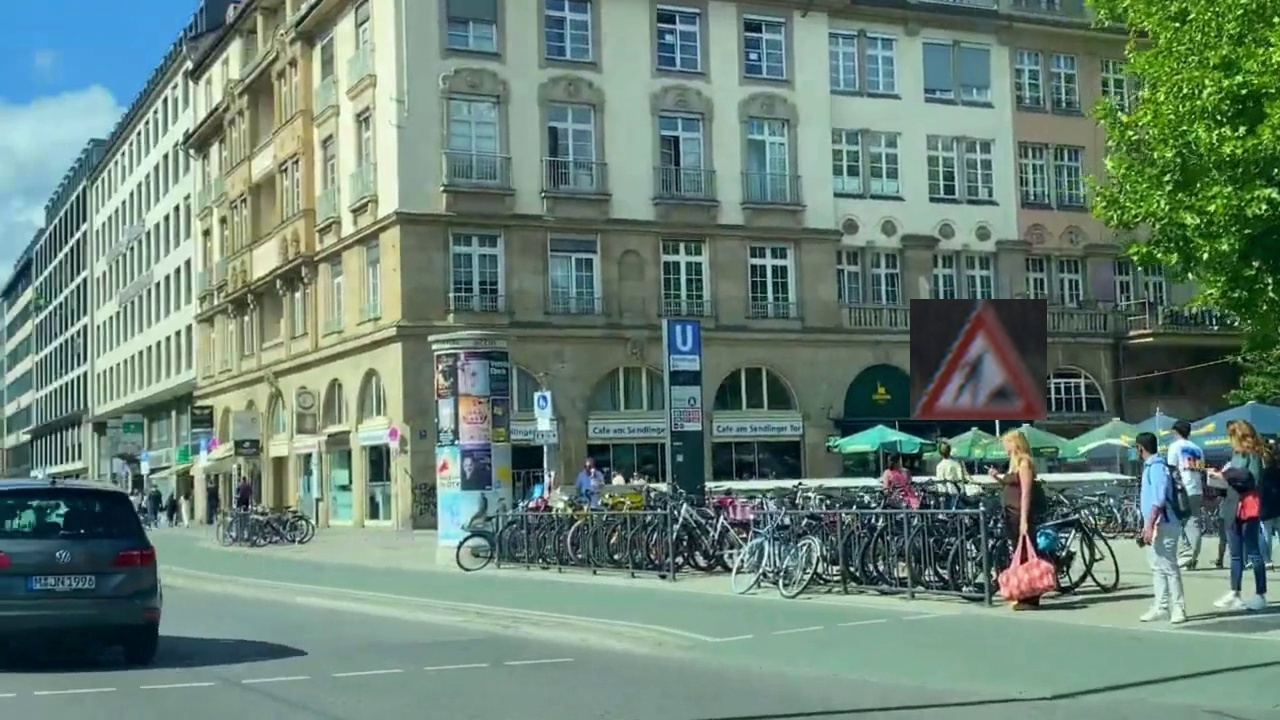Road work: (910, 299, 1047, 420)
